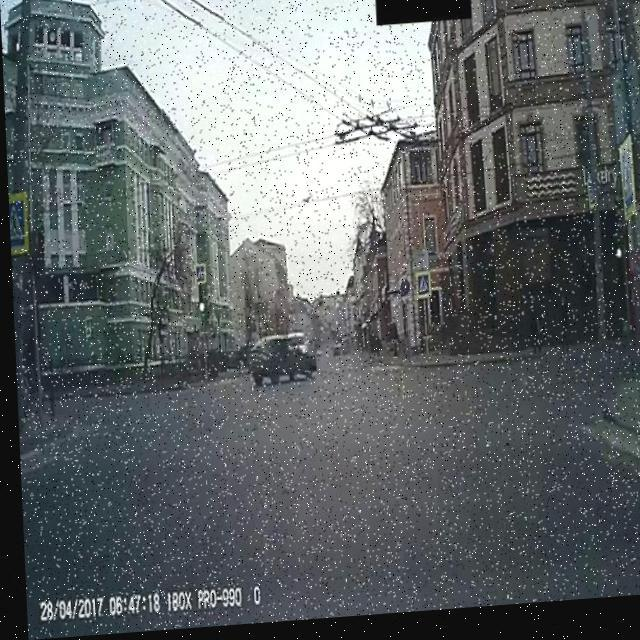normal: (232, 307, 354, 407)
